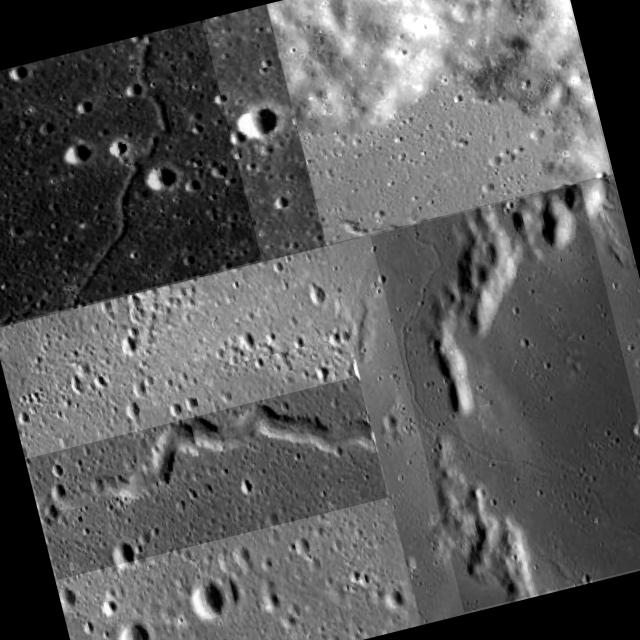rille: (370, 183, 640, 612), (266, 0, 611, 244), (0, 19, 261, 326), (26, 376, 388, 580)
